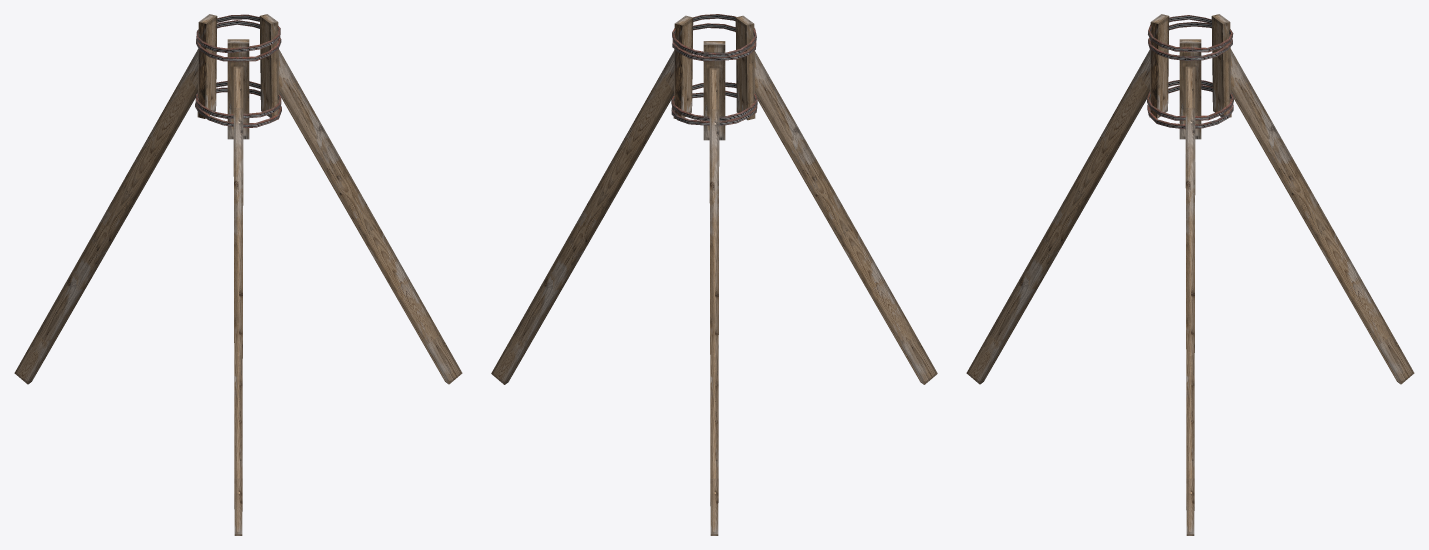
File: MB_Tree_Support.fbx
3 views of the same model, side by side, from view 1: azimuth 30°, elevation 25°; view 2: azimuth 150°, elevation 25°; view 3: azimuth 270°, elevation 25° (orthographic).
Parts seen in each view (by area): view 1: MB_Tree_Support_LOD0; view 2: MB_Tree_Support_LOD0; view 3: MB_Tree_Support_LOD0.
Boxes of the visible parts, left/top/right/bottom form: MB_Tree_Support_LOD0: left=14, top=14, right=462, bottom=535; MB_Tree_Support_LOD0: left=491, top=14, right=937, bottom=535; MB_Tree_Support_LOD0: left=966, top=14, right=1414, bottom=535.
Size of what is drawn, in the model's own units: 185 by 214 by 214.
